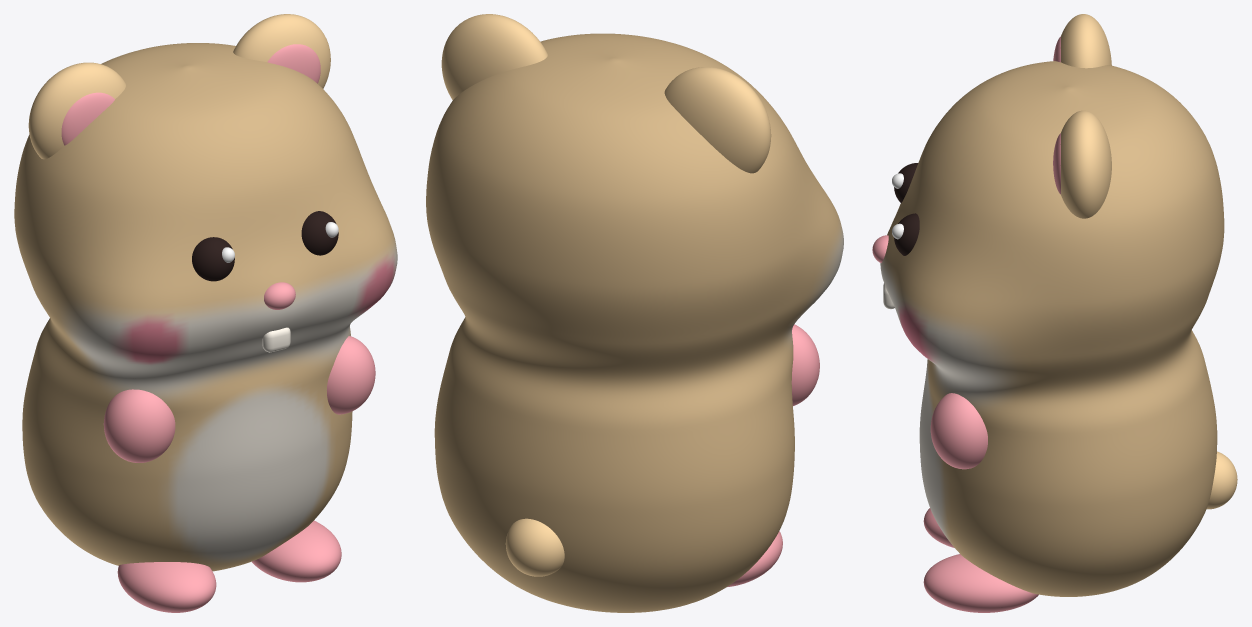
Rendered from Hamster.fbx.
3 renders of one model, left to right at view 1: azimuth 30°, elevation 25°; view 2: azimuth 150°, elevation 25°; view 3: azimuth 270°, elevation 25°, orthographic. The views are drawn at different scales.
Visible parts, largest first — view 1: Hamster_Base_BodyHead, Hamster_Base_Ear-1, Hamster_Base_Paw-1, Hamster_Base_Foot-1, Hamster_Base_Foot1, Hamster_Base_Ear1, Hamster_Base_Paw1, Hamster_Base_EarIn-1, Hamster_Base_Eye-1, Hamster_Base_EarIn1, Hamster_Base_Eye1, Hamster_Base_Nose (+1 smaller); view 2: Hamster_Base_BodyHead, Hamster_Base_Ear-1, Hamster_Base_Ear1, Hamster_Base_Tail, Hamster_Base_Paw-1, Hamster_Base_Foot-1; view 3: Hamster_Base_BodyHead, Hamster_Base_Ear1, Hamster_Base_Foot1, Hamster_Base_Paw1, Hamster_Base_Ear-1, Hamster_Base_Tail, Hamster_Base_Eye1.
Boxes of the visible parts, x1,y1,x2,y2 form: Hamster_Base_BodyHead: (14,43,397,571); Hamster_Base_Ear-1: (28,62,125,159); Hamster_Base_Paw-1: (103,389,175,462); Hamster_Base_Foot-1: (117,562,216,612); Hamster_Base_Foot1: (252,520,341,582); Hamster_Base_Ear1: (233,14,330,88); Hamster_Base_Paw1: (327,336,375,414); Hamster_Base_EarIn-1: (61,92,114,145); Hamster_Base_Eye-1: (192,237,234,281); Hamster_Base_EarIn1: (267,44,320,83); Hamster_Base_Eye1: (301,211,338,255); Hamster_Base_Nose: (264,282,295,309); Hamster_Base_BodyHead: (426,33,843,612); Hamster_Base_Ear-1: (664,67,771,173); Hamster_Base_Ear1: (441,14,547,99); Hamster_Base_Tail: (505,518,564,576); Hamster_Base_Paw-1: (791,324,819,405); Hamster_Base_Foot-1: (727,531,782,586); Hamster_Base_BodyHead: (880,61,1224,596); Hamster_Base_Ear1: (1060,110,1111,218); Hamster_Base_Foot1: (923,554,1038,612); Hamster_Base_Paw1: (930,393,987,469); Hamster_Base_Ear-1: (1061,14,1111,68); Hamster_Base_Tail: (1206,451,1237,509); Hamster_Base_Eye1: (894,213,919,255).
Bounding box in the file's own units: 14.6 × 22.58 × 14.69.
